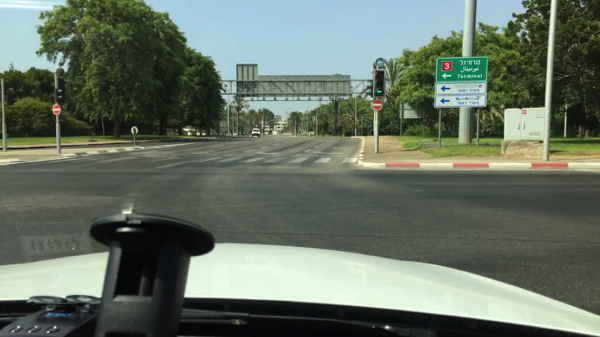car: (250, 127, 261, 138), (233, 133, 238, 136)
traffic light: (372, 68, 384, 98)
traffic sign: (236, 74, 352, 99), (435, 56, 488, 81), (433, 94, 486, 108), (434, 81, 486, 94), (398, 100, 427, 118), (235, 64, 258, 80), (369, 100, 382, 110), (52, 104, 61, 117), (130, 126, 139, 134)
